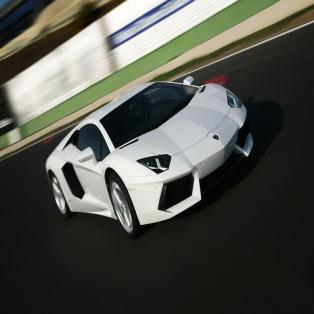Auto: (49, 75, 253, 236)
